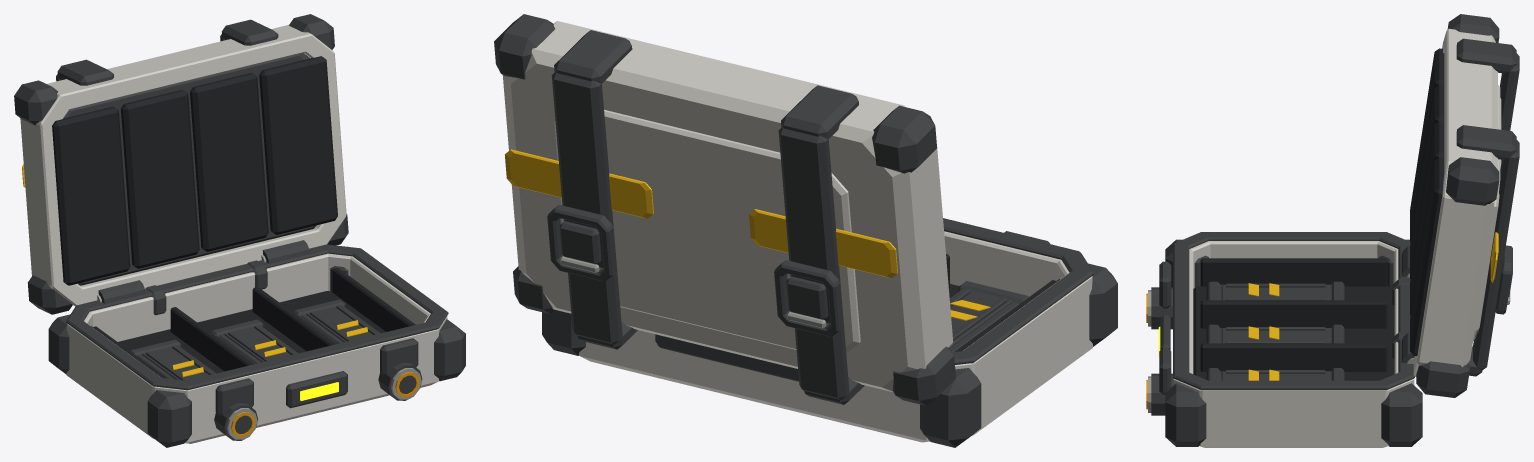
File: 06_ammo_box_open.fbx
3 views of the same model, side by side, from view 1: azimuth 30°, elevation 25°; view 2: azimuth 150°, elevation 25°; view 3: azimuth 270°, elevation 25° (orthographic). The views are drawn at different scales.
Visible parts, largest first — view 1: 06_ammo_box_open; view 2: 06_ammo_box_open; view 3: 06_ammo_box_open.
Boxes of the visible parts, box(x1,y1,x2,y2) form: 06_ammo_box_open: box(14, 14, 465, 447); 06_ammo_box_open: box(494, 14, 1117, 447); 06_ammo_box_open: box(1146, 14, 1519, 447).
Size of the model in its own units: 21.7 by 17.83 by 21.13.
